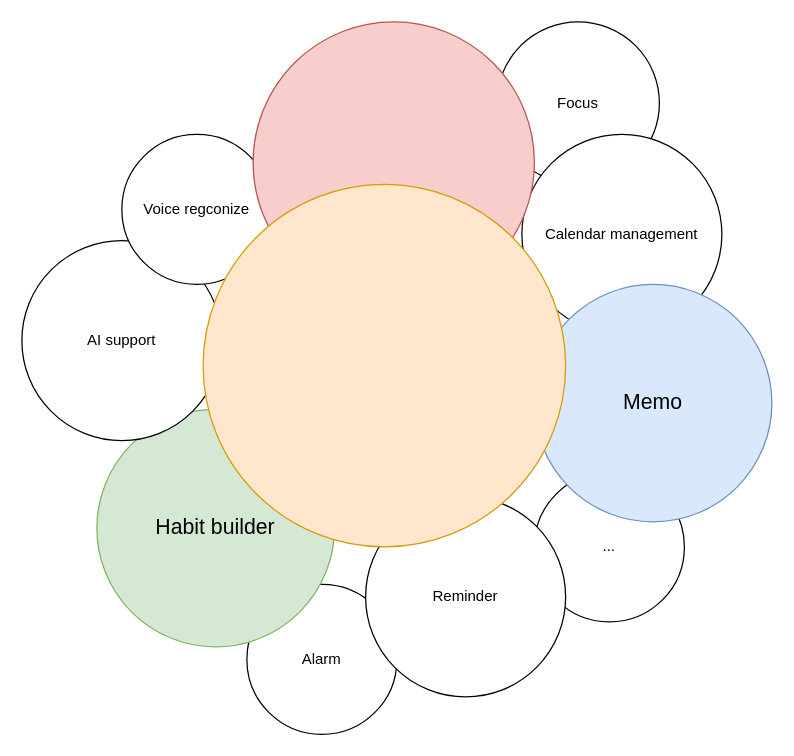
This 794x756 diagram has some shape labels left out. Each missing label, with the box of its shape:
Goal setting: (202, 183, 566, 547)
Todo: (252, 21, 534, 303)
